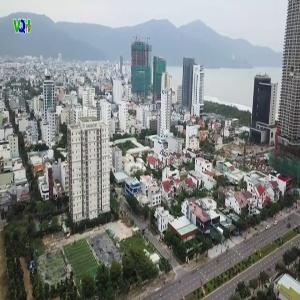drone: (132, 221, 158, 247)
